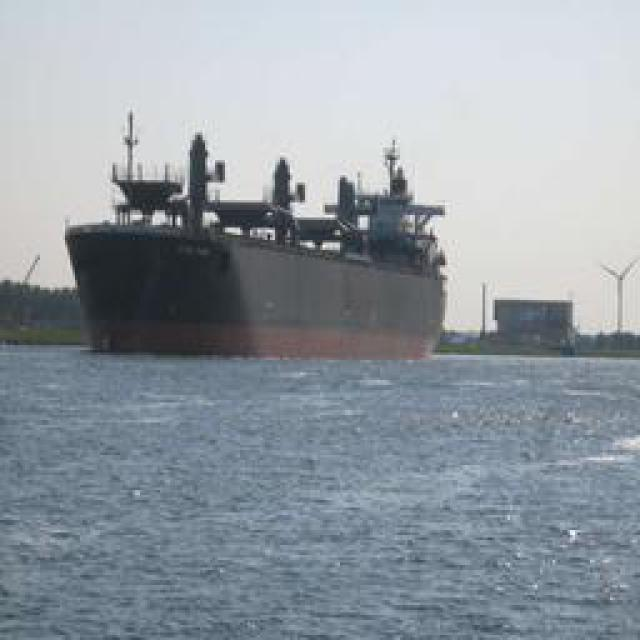Ship: (70, 136, 450, 364)
